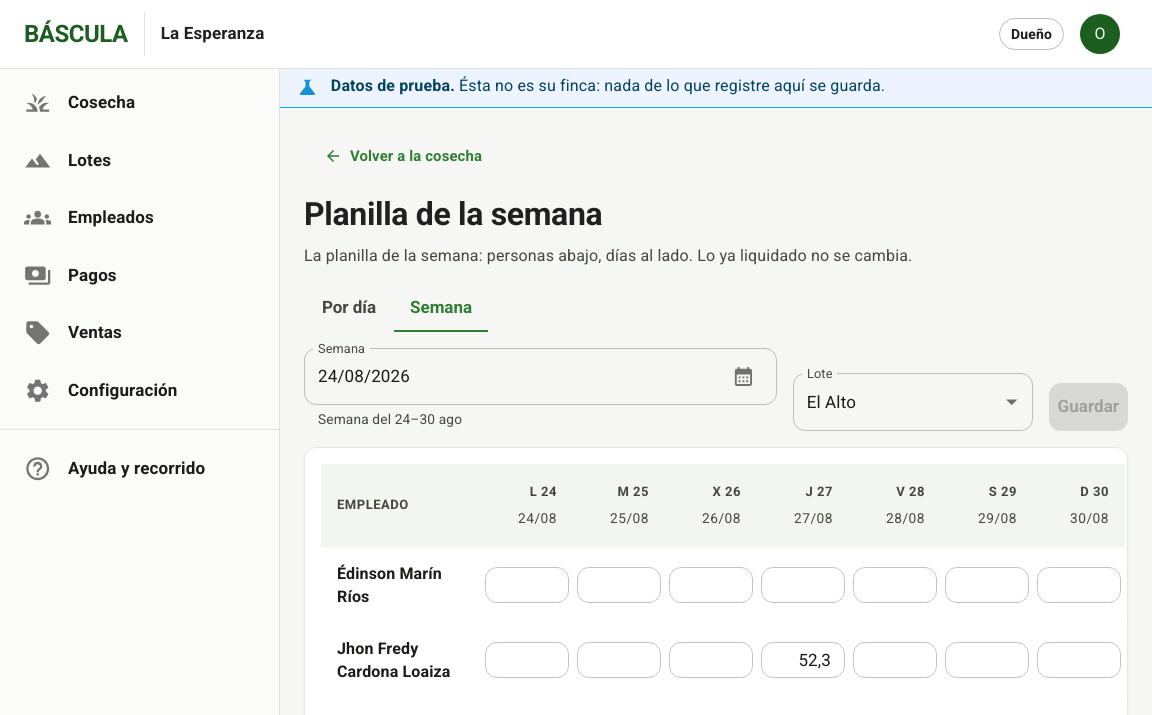
Test: Planilla edges › switches between the day and the week
This screenshot has width=1152, height=715.
Expected: the heading "Planilla de la semana" is shown, [304,195,602,233]
Click the tab "Por día". click: coordinates (349, 308)
box: [304,284,394,332]
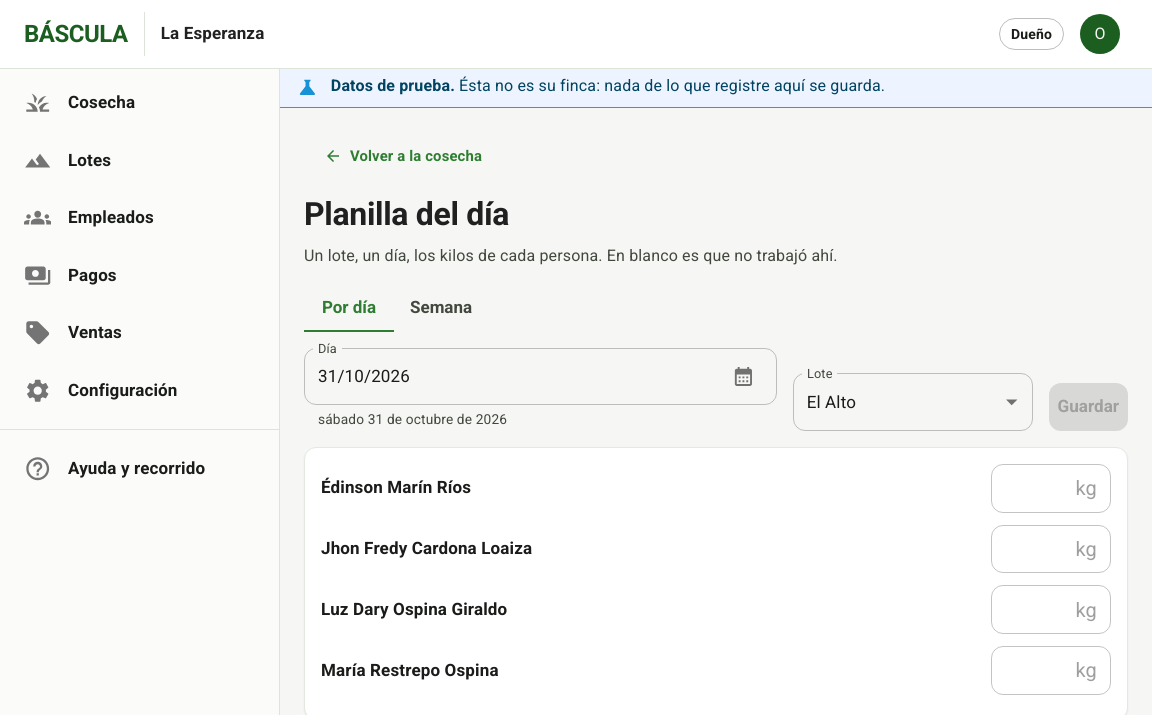
Expected: the heading "Planilla del día" is shown, [304,195,509,233]
Expected: the field named "María Restrepo Ospina, kilos" is shown, [991,646,1111,695]
Click the tab "Semana". click: coordinates (441, 308)
box: [394,284,488,332]
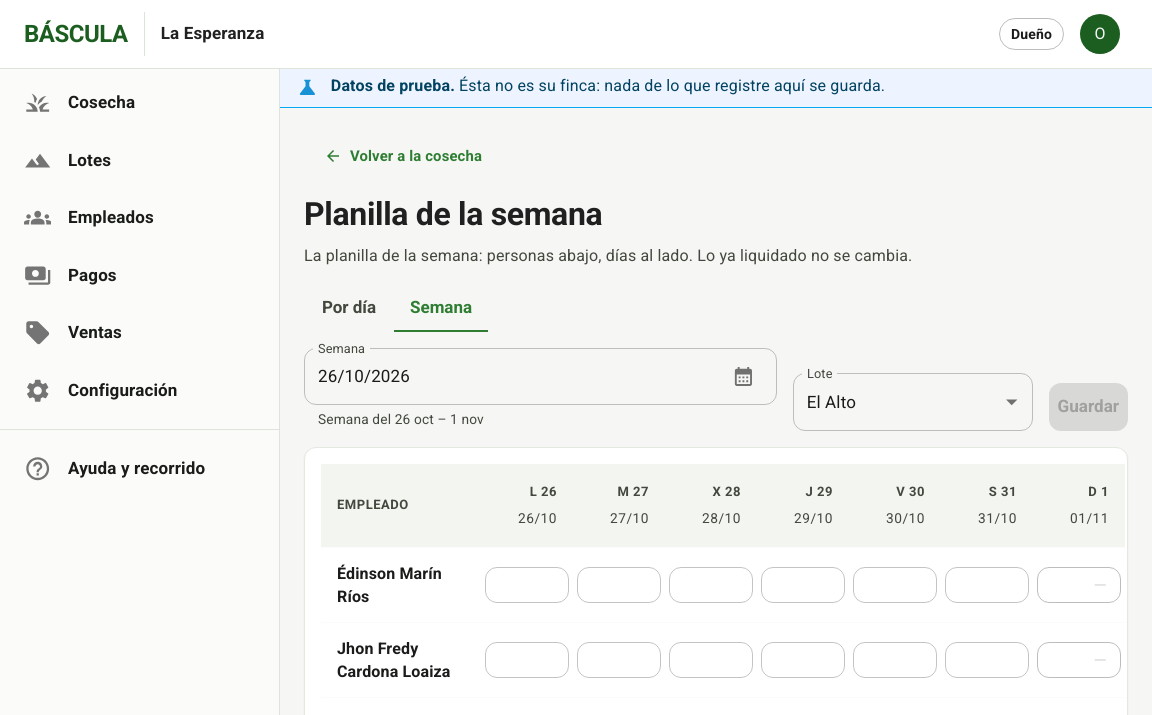
Expected: the heading "Planilla de la semana" is shown, [304,195,602,233]
